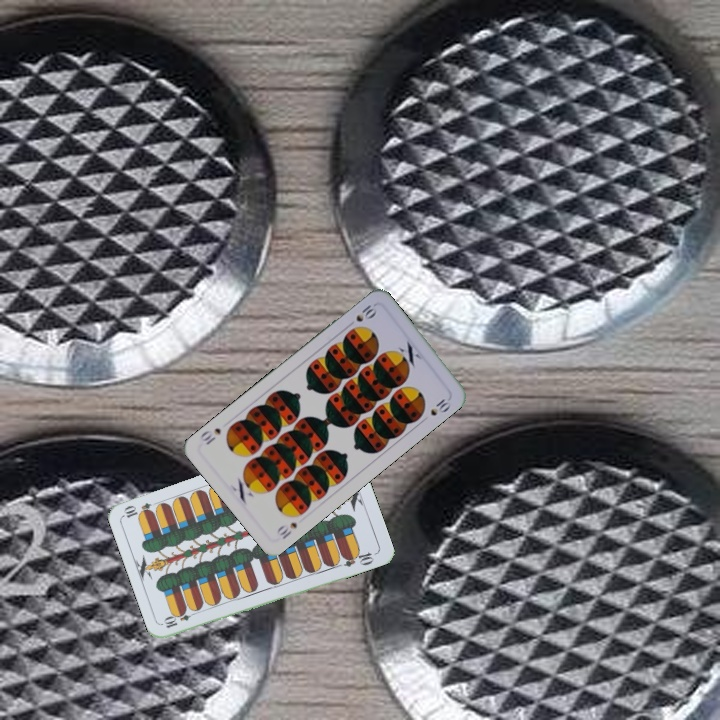E10: (160, 606, 200, 631)
S10: (343, 300, 379, 330), (273, 518, 300, 542)
